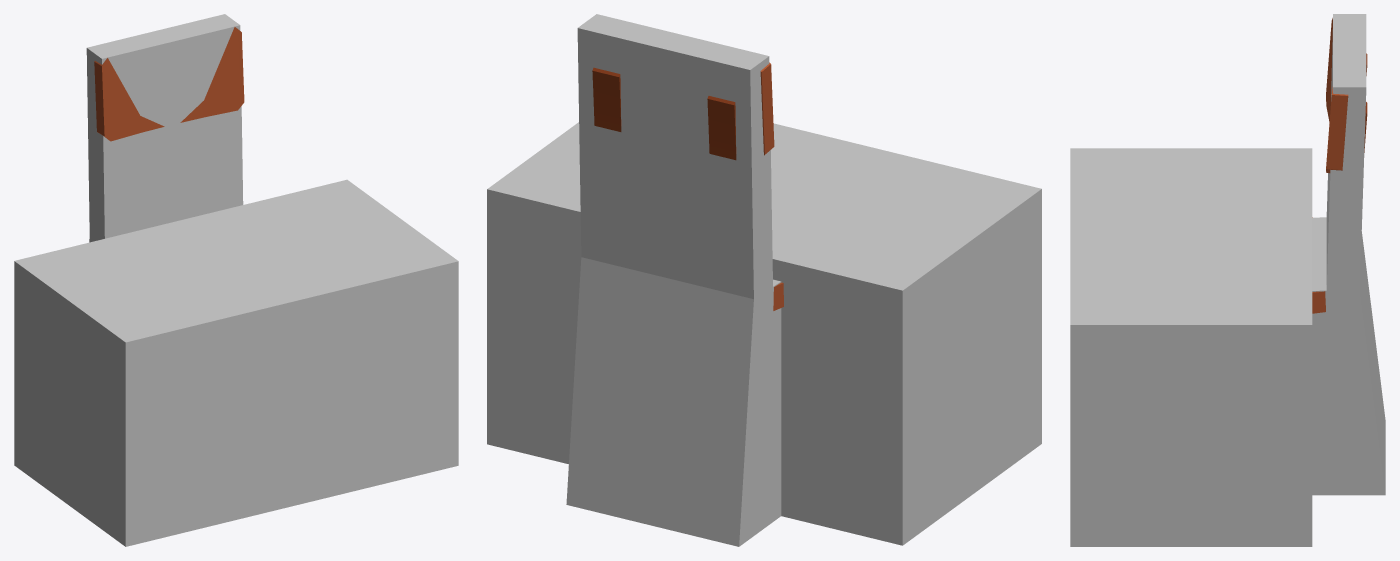
The model's file is TPChair.fbx.
3 renders of one model, left to right at view 1: azimuth 30°, elevation 25°; view 2: azimuth 150°, elevation 25°; view 3: azimuth 270°, elevation 25°, orthographic. The views are drawn at different scales.
Visible parts, largest first — view 1: COLchair, COL, TPChair; view 2: COLchair, COL, TPChair; view 3: COLchair, COL, TPChair.
Boxes of the visible parts, <box> form: COLchair: <box>14,179,458,546</box>; COL: <box>86,14,243,242</box>; TPChair: <box>94,27,244,141</box>; COLchair: <box>487,122,1041,545</box>; COL: <box>566,14,781,546</box>; TPChair: <box>592,62,783,310</box>; COLchair: <box>1070,148,1312,546</box>; COL: <box>1312,14,1385,495</box>; TPChair: <box>1312,18,1367,313</box>.
Bounding box in the file's own units: 82.33 × 88.72 × 62.19.
1 material, 1 textured.
